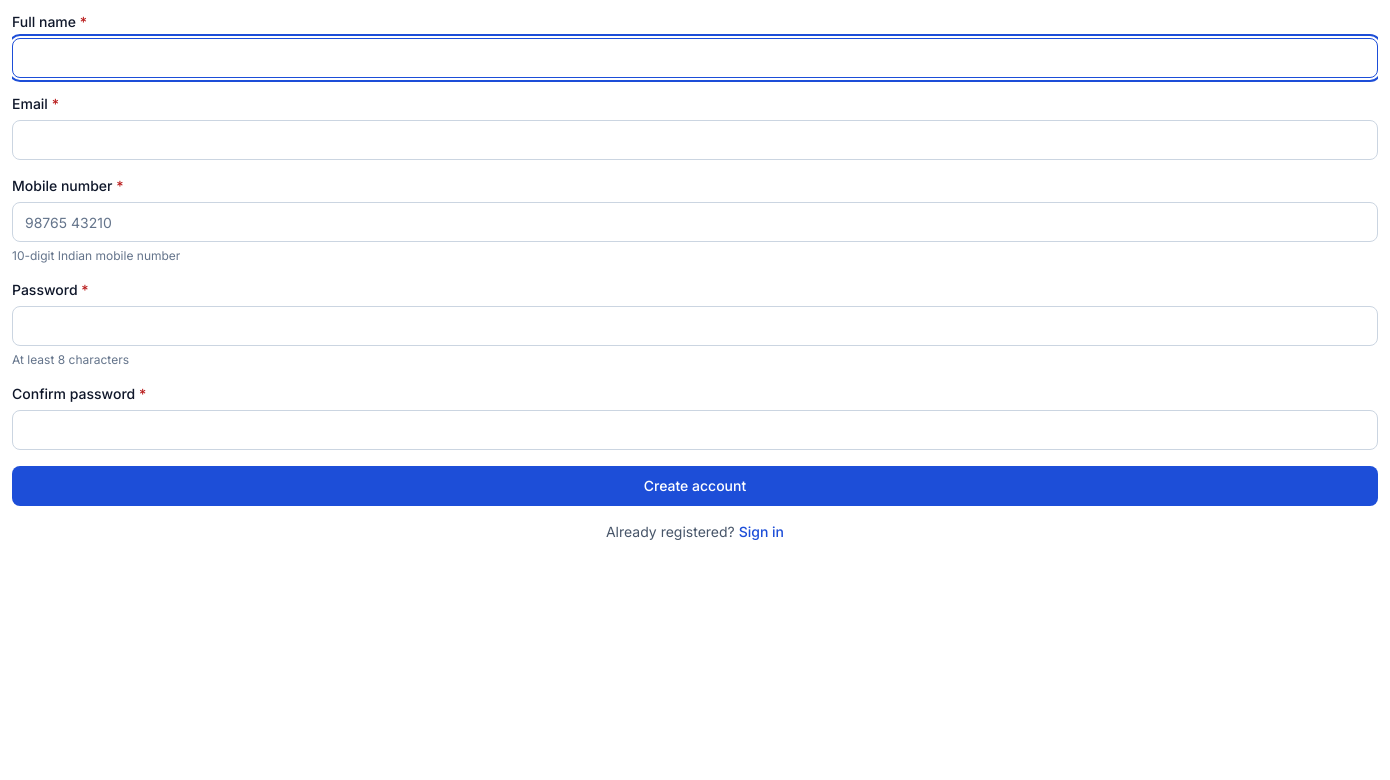
Test case: RegisterForm › flags mismatched passwords
Type "New User" into the field labelled "Full name *" at (695, 58), box [12, 38, 1378, 78]
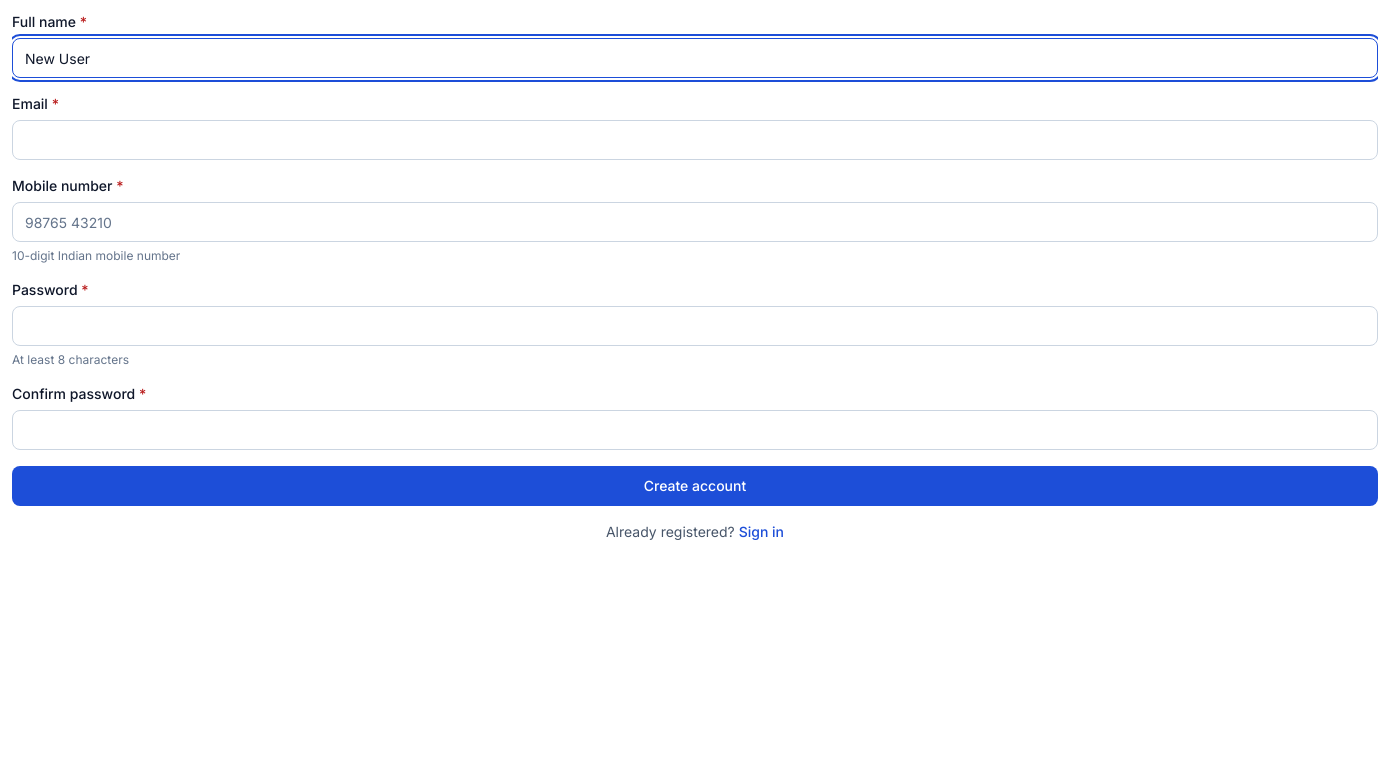
Type "n@x.co" into the field labelled "Email *" at (695, 140), box [12, 120, 1378, 160]
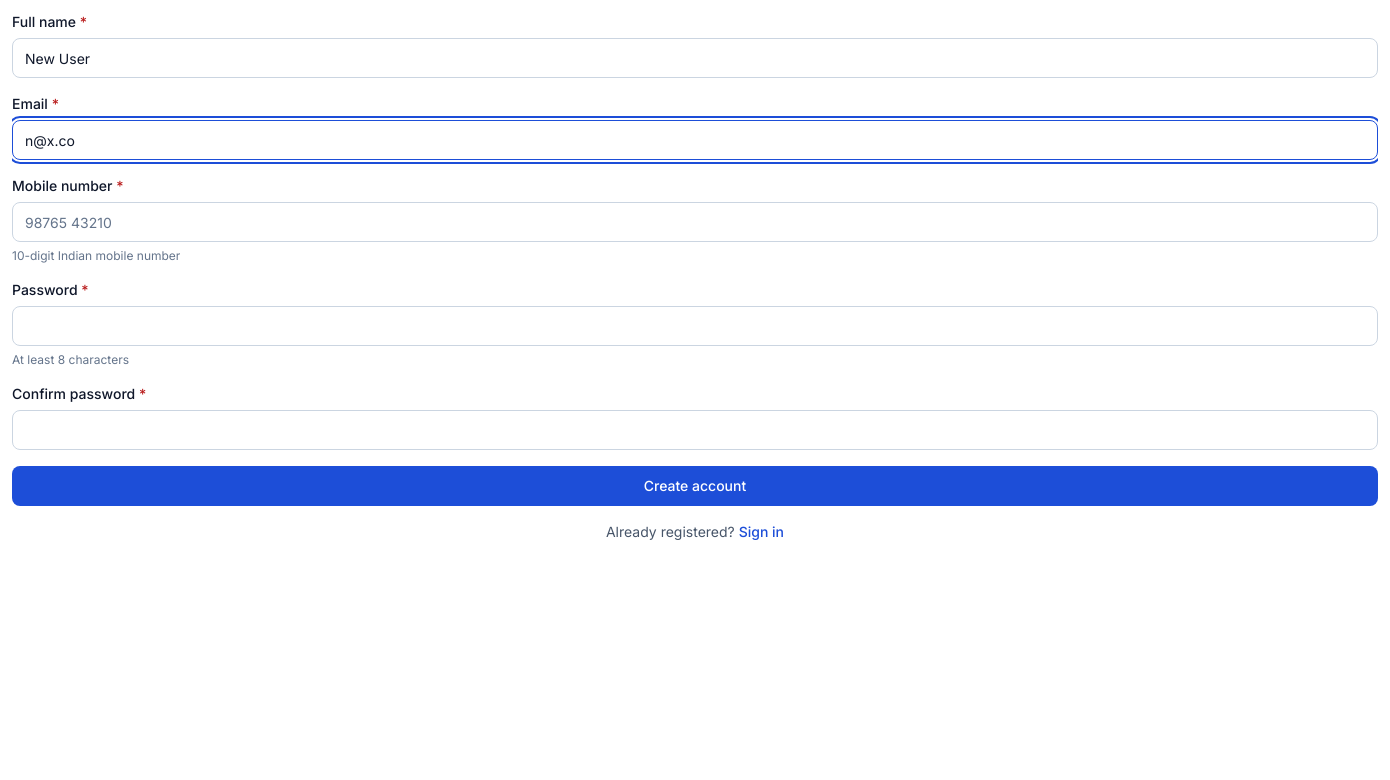
Type "9876543210" into the field labelled "Mobile number *" at (695, 222), box [12, 202, 1378, 242]
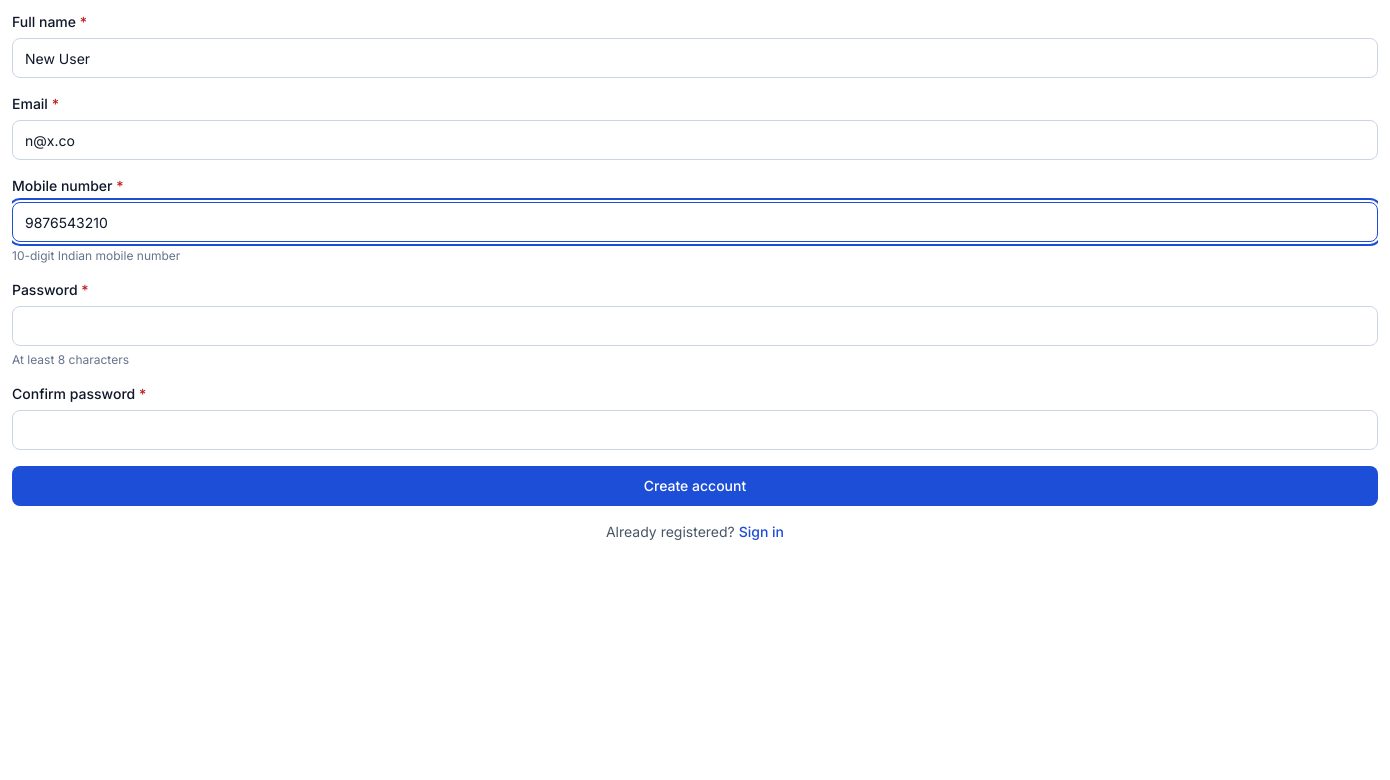
Type "longenough1" into the password field labelled "Password *" at (695, 326), box [12, 306, 1378, 346]
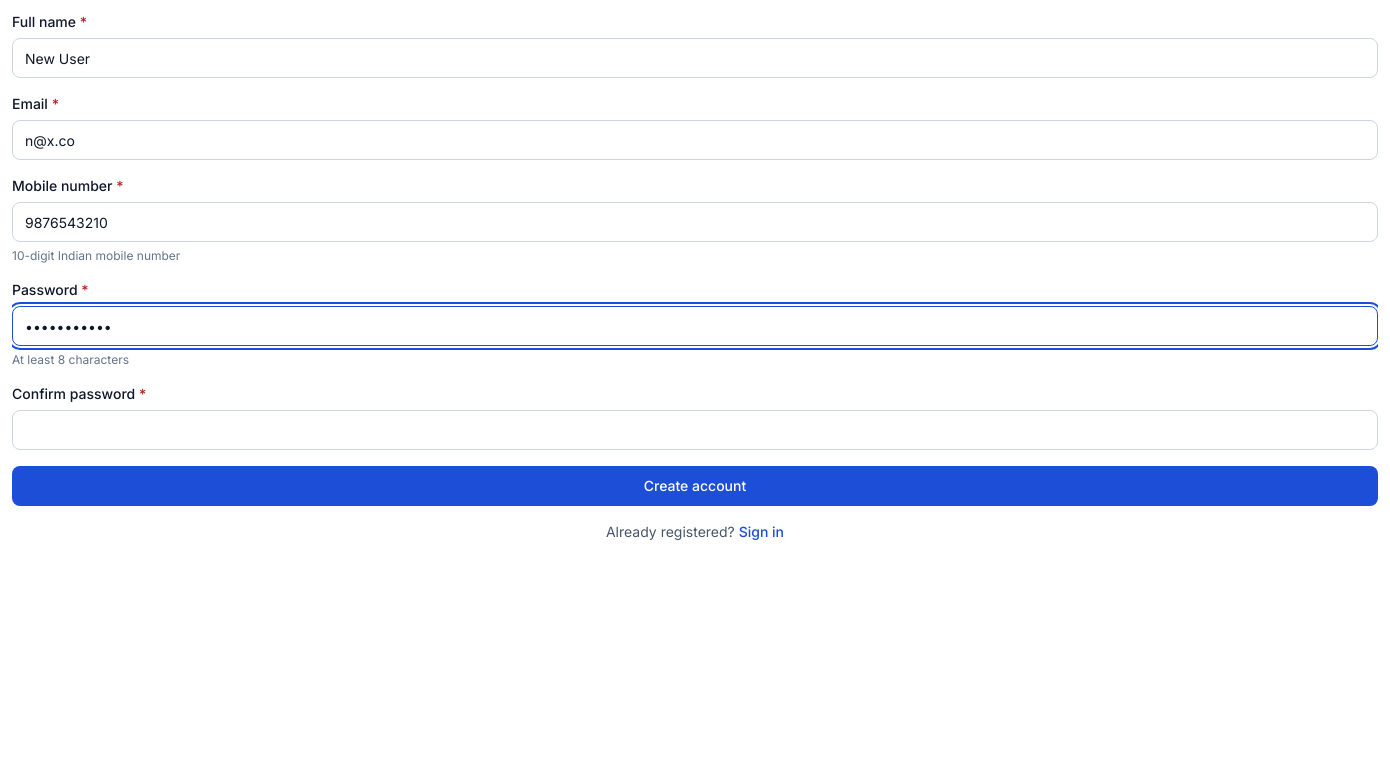
Type "different123" into the password field labelled "Confirm password *" at (695, 430), box [12, 410, 1378, 450]
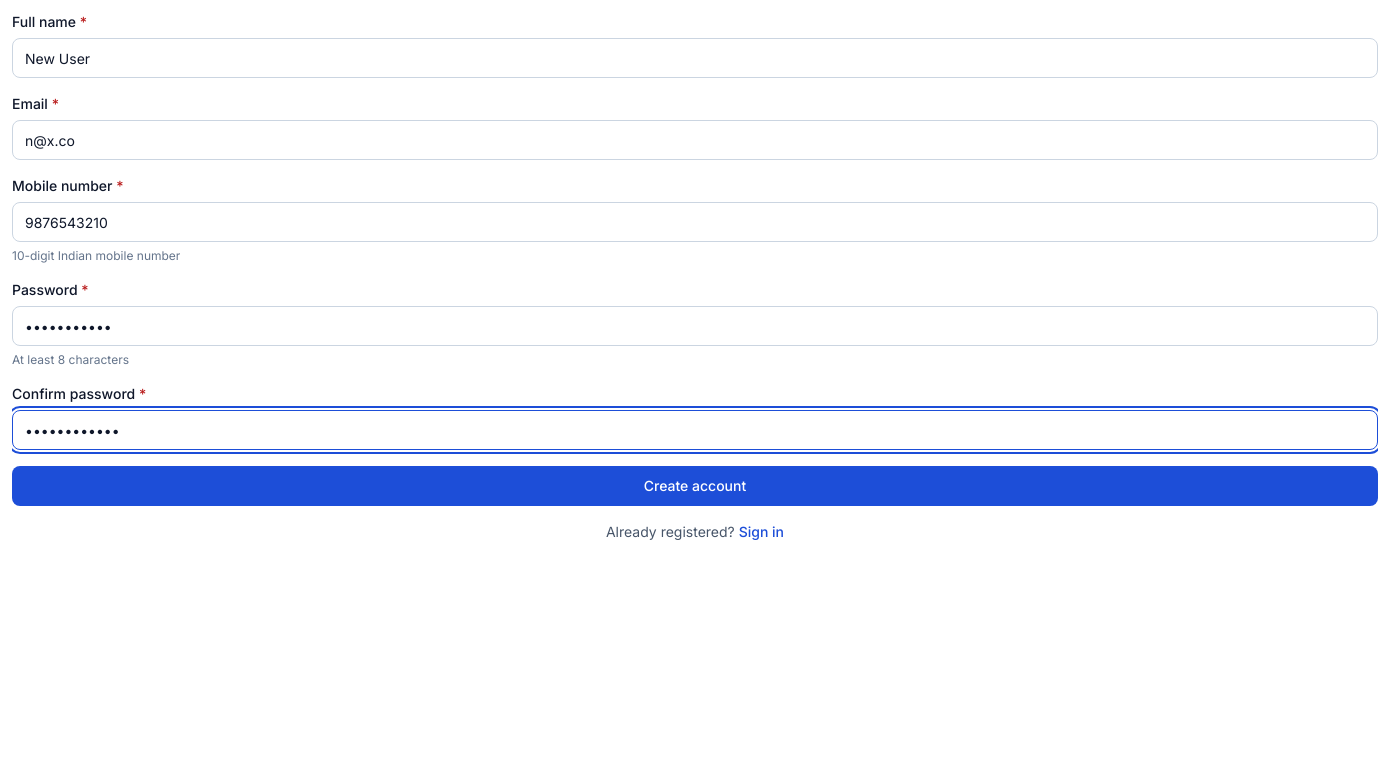
Click the button "Create account" at (695, 486), box [12, 466, 1378, 506]
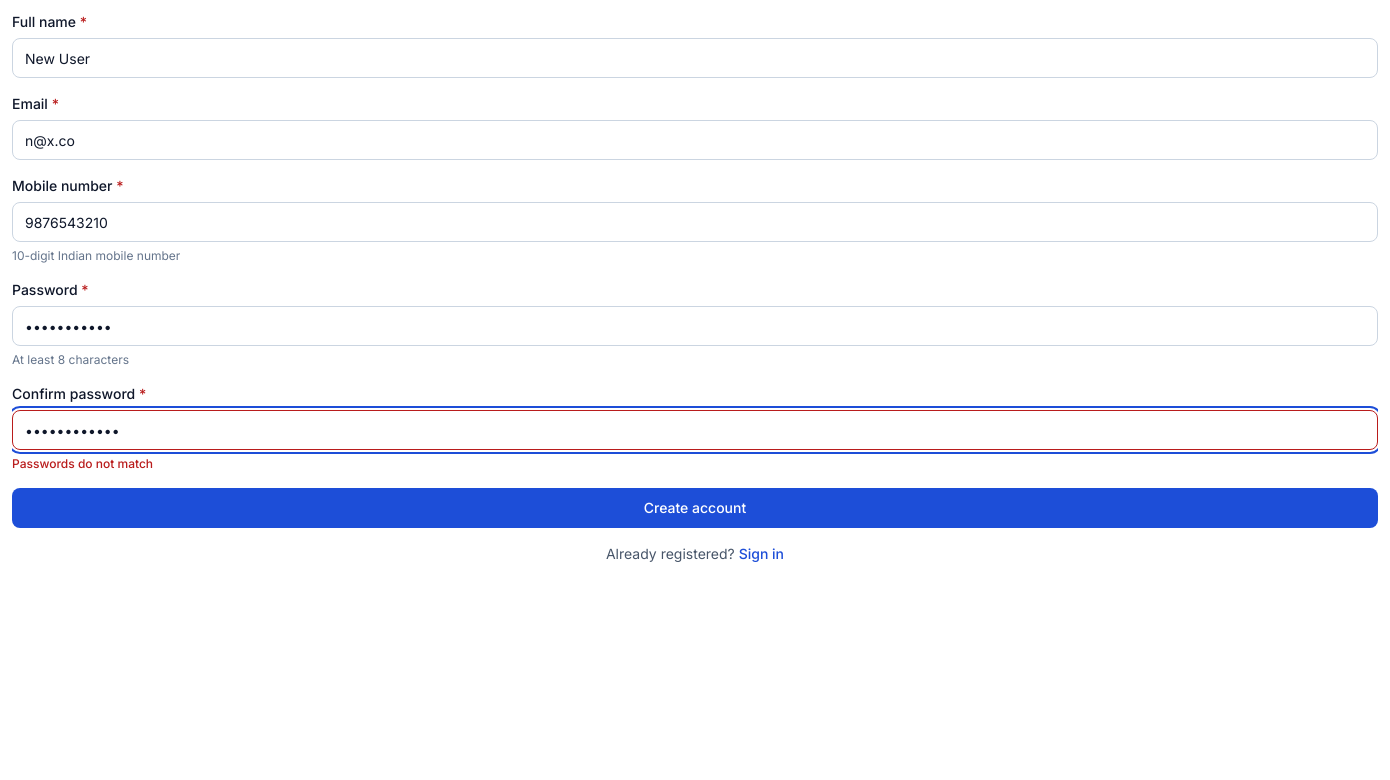
Now the text "Passwords do not match" is shown, box [12, 456, 153, 471]
